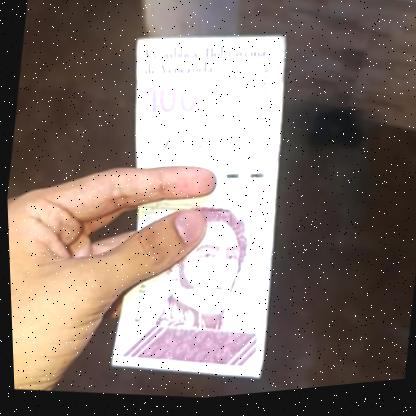one_hundred-front-vef: (92, 21, 307, 396)
